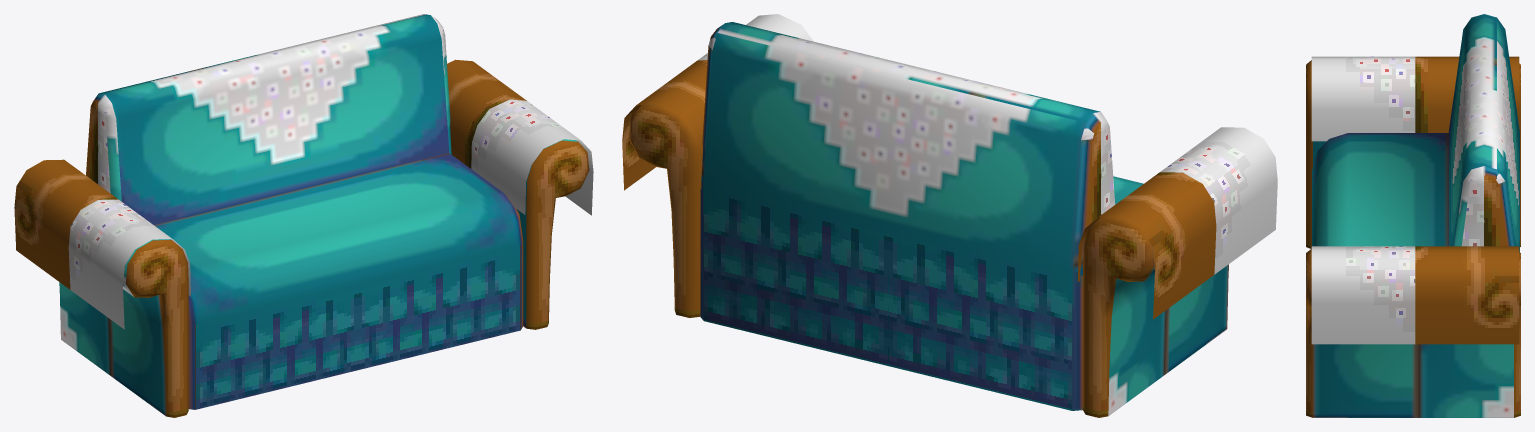
Rendered from int_pck_chairL.dae.
3 renders of one model, left to right at view 1: azimuth 30°, elevation 25°; view 2: azimuth 150°, elevation 25°; view 3: azimuth 270°, elevation 25°, orthographic. The views are drawn at different scales.
Parts seen in each view (by area): view 1: int_pck_chairL; view 2: int_pck_chairL; view 3: int_pck_chairL.
Part boxes in pixels (bbox=[...]): int_pck_chairL: bbox=[14, 14, 593, 417]; int_pck_chairL: bbox=[622, 14, 1277, 417]; int_pck_chairL: bbox=[1306, 14, 1520, 417].
Bounding box in the file's own units: 62.94 × 31.88 × 26.
Materials: 3 (3 with a texture image).
